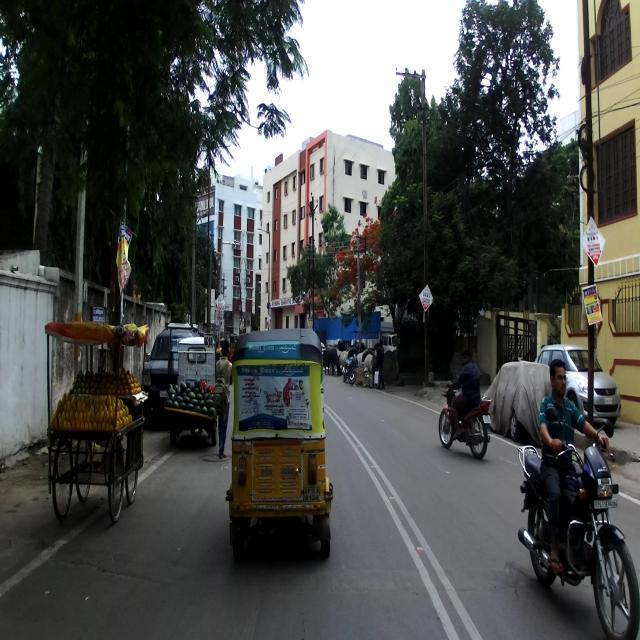autorickshaw: (224, 327, 334, 560), (166, 326, 220, 446)
car: (532, 343, 621, 427), (480, 360, 555, 441), (140, 322, 202, 418)
motorcycle: (516, 416, 640, 640), (438, 381, 492, 458)
